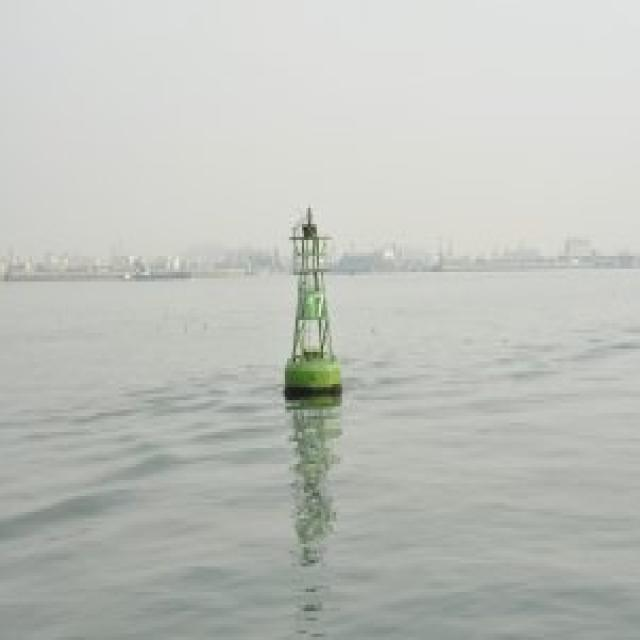2.1 lateral mark -S-: (265, 186, 358, 419)
